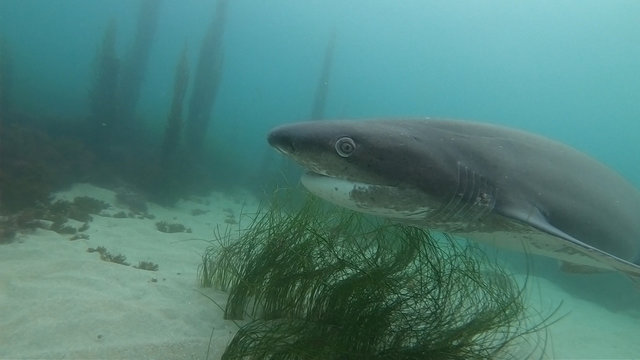Sevengill Shark: (239, 91, 640, 335)
